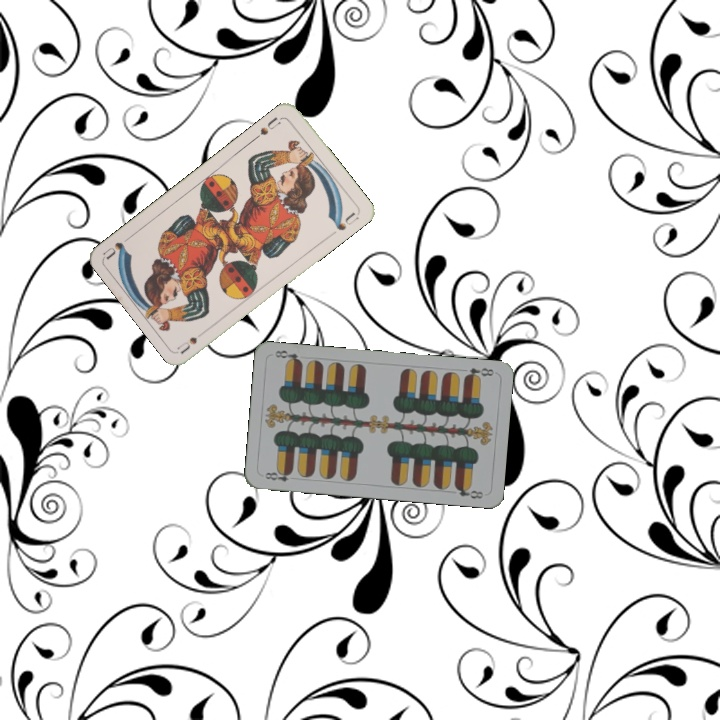E8: (460, 364, 496, 382), (261, 466, 295, 484)
SU: (250, 113, 283, 142), (174, 333, 200, 356)
